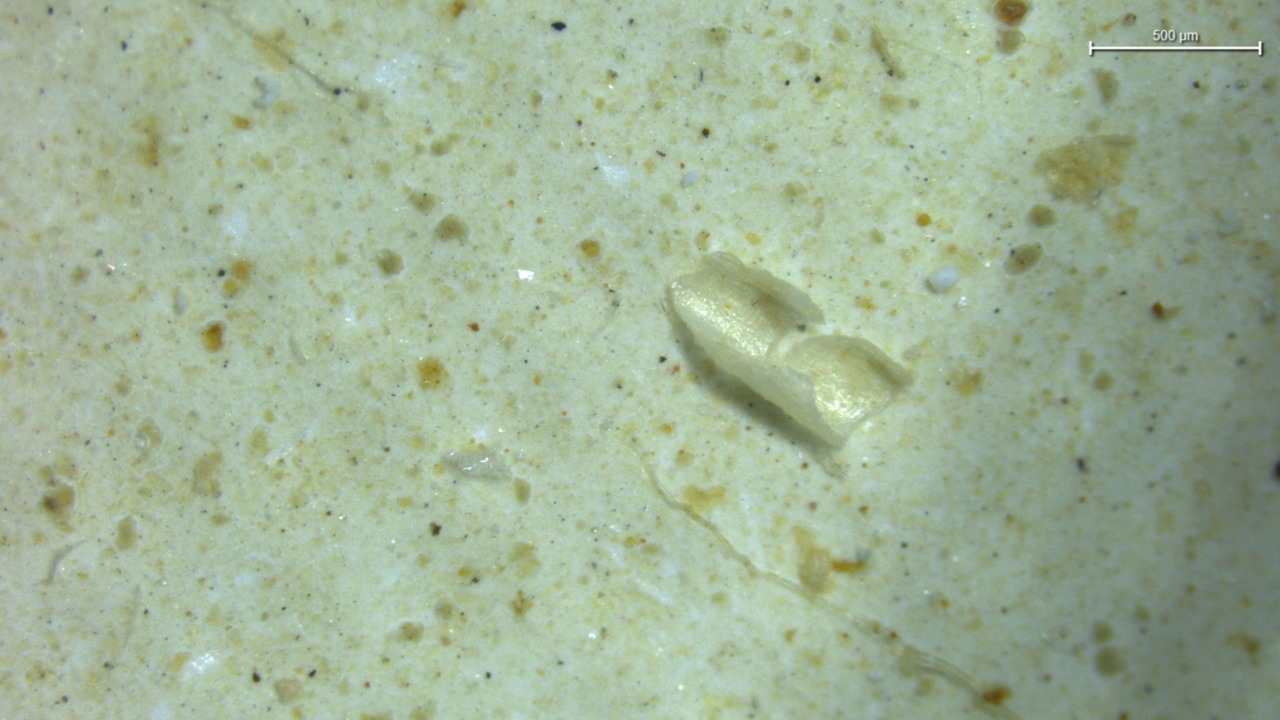microplastic_fragment: (669, 253, 912, 448), (442, 445, 511, 482), (926, 267, 959, 294)
